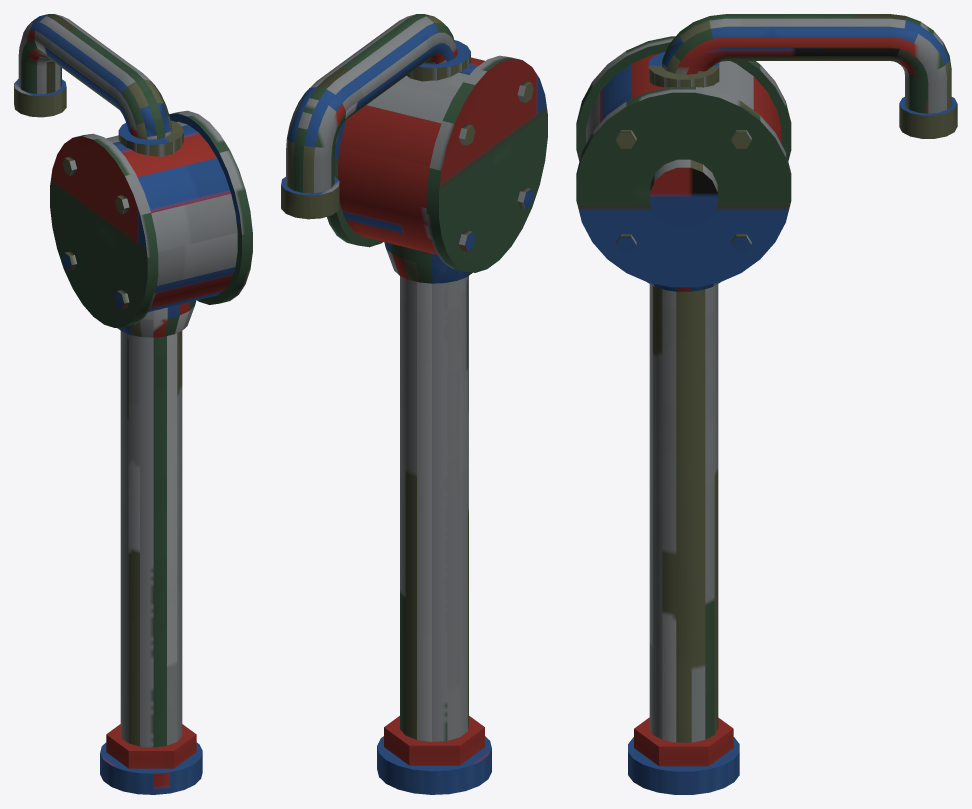
File: body_fill.obj
3 renders of one model, left to right at view 1: azimuth 30°, elevation 25°; view 2: azimuth 150°, elevation 25°; view 3: azimuth 270°, elevation 25°, orthographic. The views are drawn at different scales.
Visible parts, largest first — view 1: hand_fuel_pump__body_fill__column, hand_fuel_pump__body_fill__covers, hand_fuel_pump__body_fill__housing, hand_fuel_pump__body_fill__discharge, hand_fuel_pump__body_fill__adapter, hand_fuel_pump__body_fill__nut, hand_fuel_pump__body_fill__foot, hand_fuel_pump__body_fill__barb, hand_fuel_pump__body_fill__outlet_boss, hand_fuel_pump__body_fill__cover_bolts; view 2: hand_fuel_pump__body_fill__column, hand_fuel_pump__body_fill__covers, hand_fuel_pump__body_fill__housing, hand_fuel_pump__body_fill__discharge, hand_fuel_pump__body_fill__adapter, hand_fuel_pump__body_fill__nut, hand_fuel_pump__body_fill__foot, hand_fuel_pump__body_fill__barb, hand_fuel_pump__body_fill__outlet_boss, hand_fuel_pump__body_fill__cover_bolts; view 3: hand_fuel_pump__body_fill__covers, hand_fuel_pump__body_fill__column, hand_fuel_pump__body_fill__discharge, hand_fuel_pump__body_fill__housing, hand_fuel_pump__body_fill__adapter, hand_fuel_pump__body_fill__nut, hand_fuel_pump__body_fill__barb, hand_fuel_pump__body_fill__outlet_boss, hand_fuel_pump__body_fill__cover_bolts.
Boxes of the visible parts, box(x1,y1,x2,y2) form: hand_fuel_pump__body_fill__column: box(120, 331, 182, 747); hand_fuel_pump__body_fill__covers: box(50, 110, 252, 327); hand_fuel_pump__body_fill__housing: box(106, 121, 237, 312); hand_fuel_pump__body_fill__discharge: box(18, 14, 172, 139); hand_fuel_pump__body_fill__adapter: box(100, 742, 202, 794); hand_fuel_pump__body_fill__nut: box(106, 724, 196, 768); hand_fuel_pump__body_fill__foot: box(117, 300, 195, 337); hand_fuel_pump__body_fill__barb: box(14, 79, 66, 117); hand_fuel_pump__body_fill__outlet_boss: box(118, 120, 183, 156); hand_fuel_pump__body_fill__cover_bolts: box(62, 156, 129, 308); hand_fuel_pump__body_fill__column: box(400, 276, 468, 741); hand_fuel_pump__body_fill__covers: box(327, 55, 547, 272); hand_fuel_pump__body_fill__housing: box(338, 57, 484, 254); hand_fuel_pump__body_fill__discharge: box(286, 14, 457, 193); hand_fuel_pump__body_fill__adapter: box(377, 736, 491, 794); hand_fuel_pump__body_fill__nut: box(384, 716, 484, 765); hand_fuel_pump__body_fill__foot: box(384, 242, 472, 283); hand_fuel_pump__body_fill__barb: box(281, 176, 339, 219); hand_fuel_pump__body_fill__outlet_boss: box(407, 40, 470, 81); hand_fuel_pump__body_fill__cover_bolts: box(459, 81, 533, 251); hand_fuel_pump__body_fill__covers: box(576, 36, 791, 287); hand_fuel_pump__body_fill__column: box(649, 284, 718, 742); hand_fuel_pump__body_fill__discharge: box(662, 14, 951, 113); hand_fuel_pump__body_fill__housing: box(586, 53, 781, 143); hand_fuel_pump__body_fill__adapter: box(628, 737, 739, 794); hand_fuel_pump__body_fill__nut: box(634, 717, 733, 766); hand_fuel_pump__body_fill__barb: box(899, 97, 957, 138); hand_fuel_pump__body_fill__outlet_boss: box(648, 51, 719, 87); hand_fuel_pump__body_fill__cover_bolts: box(616, 130, 751, 253).
Size of the model in its own units: 0.1453 by 0.7588 by 0.347.
